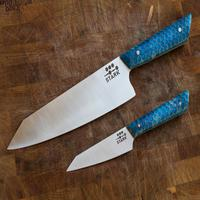knife: (6, 13, 197, 180), (1, 15, 197, 154), (59, 91, 190, 175)
